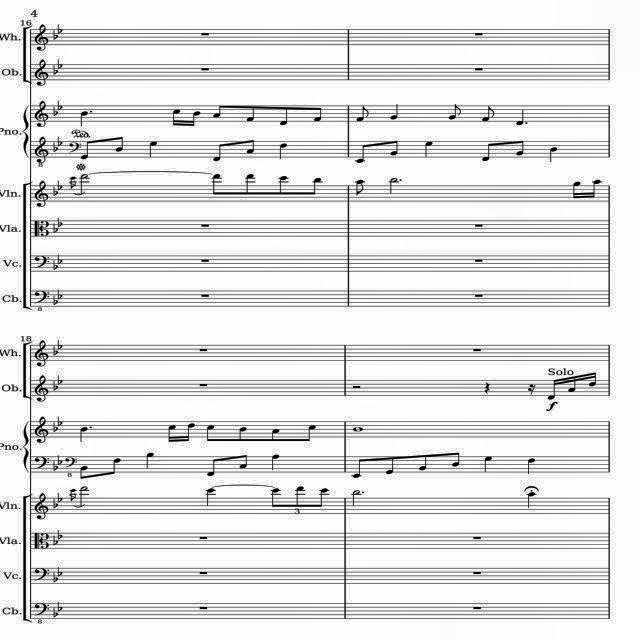Bass-clef: (31, 414, 49, 446), (32, 24, 49, 52), (32, 338, 48, 367), (32, 58, 48, 86), (32, 137, 48, 165), (32, 492, 48, 520), (32, 376, 48, 404), (36, 100, 49, 128), (35, 181, 49, 207)
Bemol: (50, 257, 59, 271), (56, 251, 64, 265), (54, 566, 64, 576), (51, 141, 58, 155), (50, 294, 58, 306), (56, 454, 64, 466), (56, 59, 64, 70), (56, 417, 64, 428), (51, 380, 58, 392), (52, 534, 59, 546), (56, 24, 64, 34), (51, 66, 59, 76), (56, 100, 64, 110), (56, 375, 64, 385), (56, 530, 64, 540), (56, 602, 64, 612), (51, 186, 58, 197), (52, 28, 58, 40), (52, 106, 58, 118), (58, 339, 66, 348), (51, 422, 57, 434), (50, 462, 58, 471), (51, 606, 57, 618), (51, 572, 58, 582), (56, 290, 64, 298), (55, 136, 61, 146), (56, 180, 62, 190), (52, 345, 58, 355), (57, 492, 63, 502), (53, 220, 57, 232), (52, 496, 56, 508), (58, 217, 62, 227)
Eighth-note: (378, 454, 402, 478), (474, 142, 496, 166), (208, 142, 228, 166), (272, 105, 292, 127), (105, 136, 126, 156), (349, 457, 367, 479), (444, 452, 466, 470), (292, 486, 308, 509), (316, 486, 332, 509), (446, 102, 464, 122), (352, 178, 370, 198), (354, 143, 370, 165), (204, 421, 220, 443), (230, 454, 250, 471), (211, 172, 225, 195), (276, 175, 290, 198), (108, 458, 124, 478), (412, 452, 428, 472), (268, 488, 284, 508), (308, 105, 324, 124), (356, 105, 372, 124), (478, 106, 494, 124), (239, 139, 257, 155), (206, 459, 222, 477), (310, 177, 324, 196), (306, 422, 318, 444), (240, 105, 256, 121), (386, 140, 402, 156), (512, 140, 528, 156), (245, 173, 257, 194), (235, 425, 249, 443), (80, 140, 92, 160), (268, 428, 282, 444), (76, 466, 90, 482), (212, 104, 224, 120)
Full-note: (352, 426, 364, 432)
Half-note: (384, 176, 400, 196), (78, 486, 90, 506), (352, 488, 362, 508), (80, 174, 90, 193)
Quarter-note: (202, 484, 218, 508), (482, 455, 498, 477), (276, 141, 292, 161), (524, 456, 540, 476), (525, 491, 541, 509), (388, 104, 402, 124), (147, 140, 161, 160), (76, 425, 88, 445), (512, 109, 524, 128), (144, 451, 156, 469), (270, 454, 282, 472), (421, 140, 434, 156), (78, 110, 88, 126), (549, 146, 559, 162)
Quarter-rest: (482, 382, 491, 396)
Sixteenth-note: (162, 424, 180, 444), (545, 378, 559, 400), (187, 110, 203, 128), (590, 176, 602, 200), (566, 376, 580, 396), (183, 422, 197, 442), (572, 180, 584, 202), (584, 371, 598, 389), (172, 109, 180, 128)
